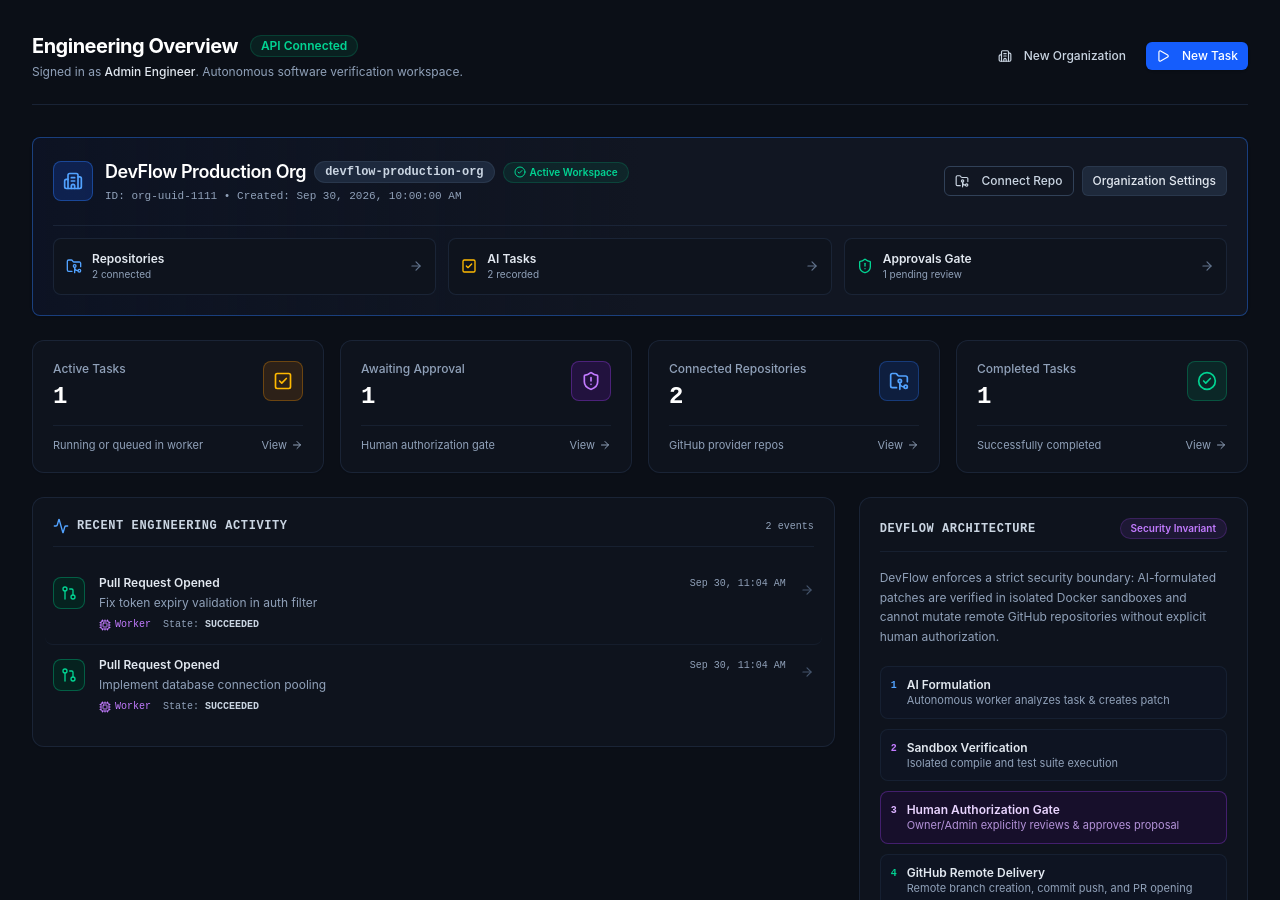
DashboardPage › opens New Task modal when New Task button is clicked
This screenshot has width=1280, height=900.
Click the button "New Task": coordinates (1197, 56) 1146,42 -> 1248,70
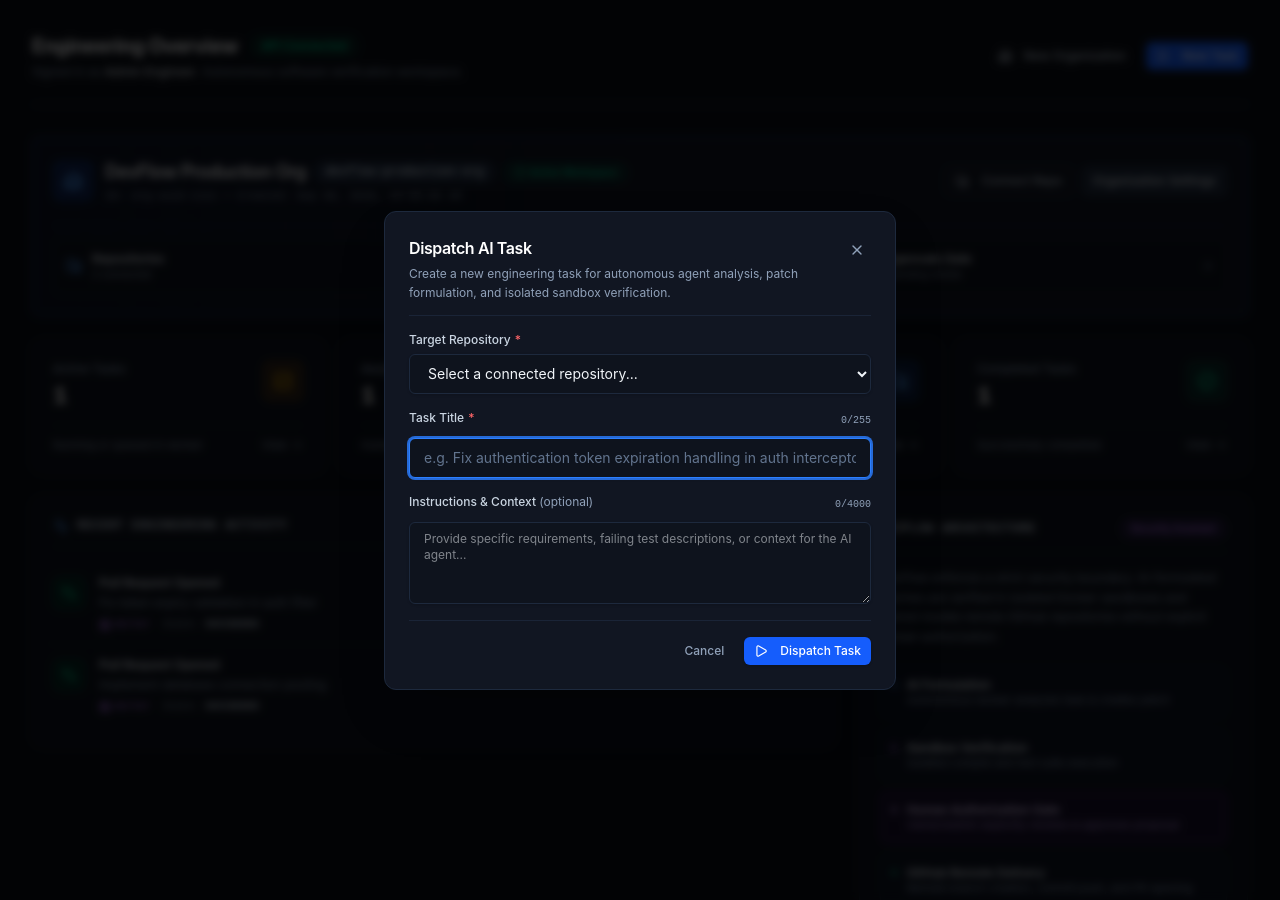
Expected: the heading "Dispatch AI Task" is shown, 409,238 -> 532,258
Expected: the field labelled "Task Title*" is shown, 409,438 -> 871,478
